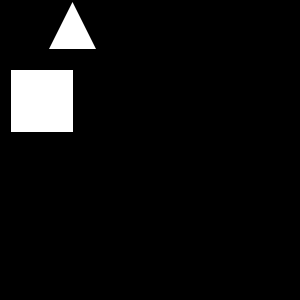circle: (11, 70, 73, 132)
triangle: (49, 2, 96, 49)
